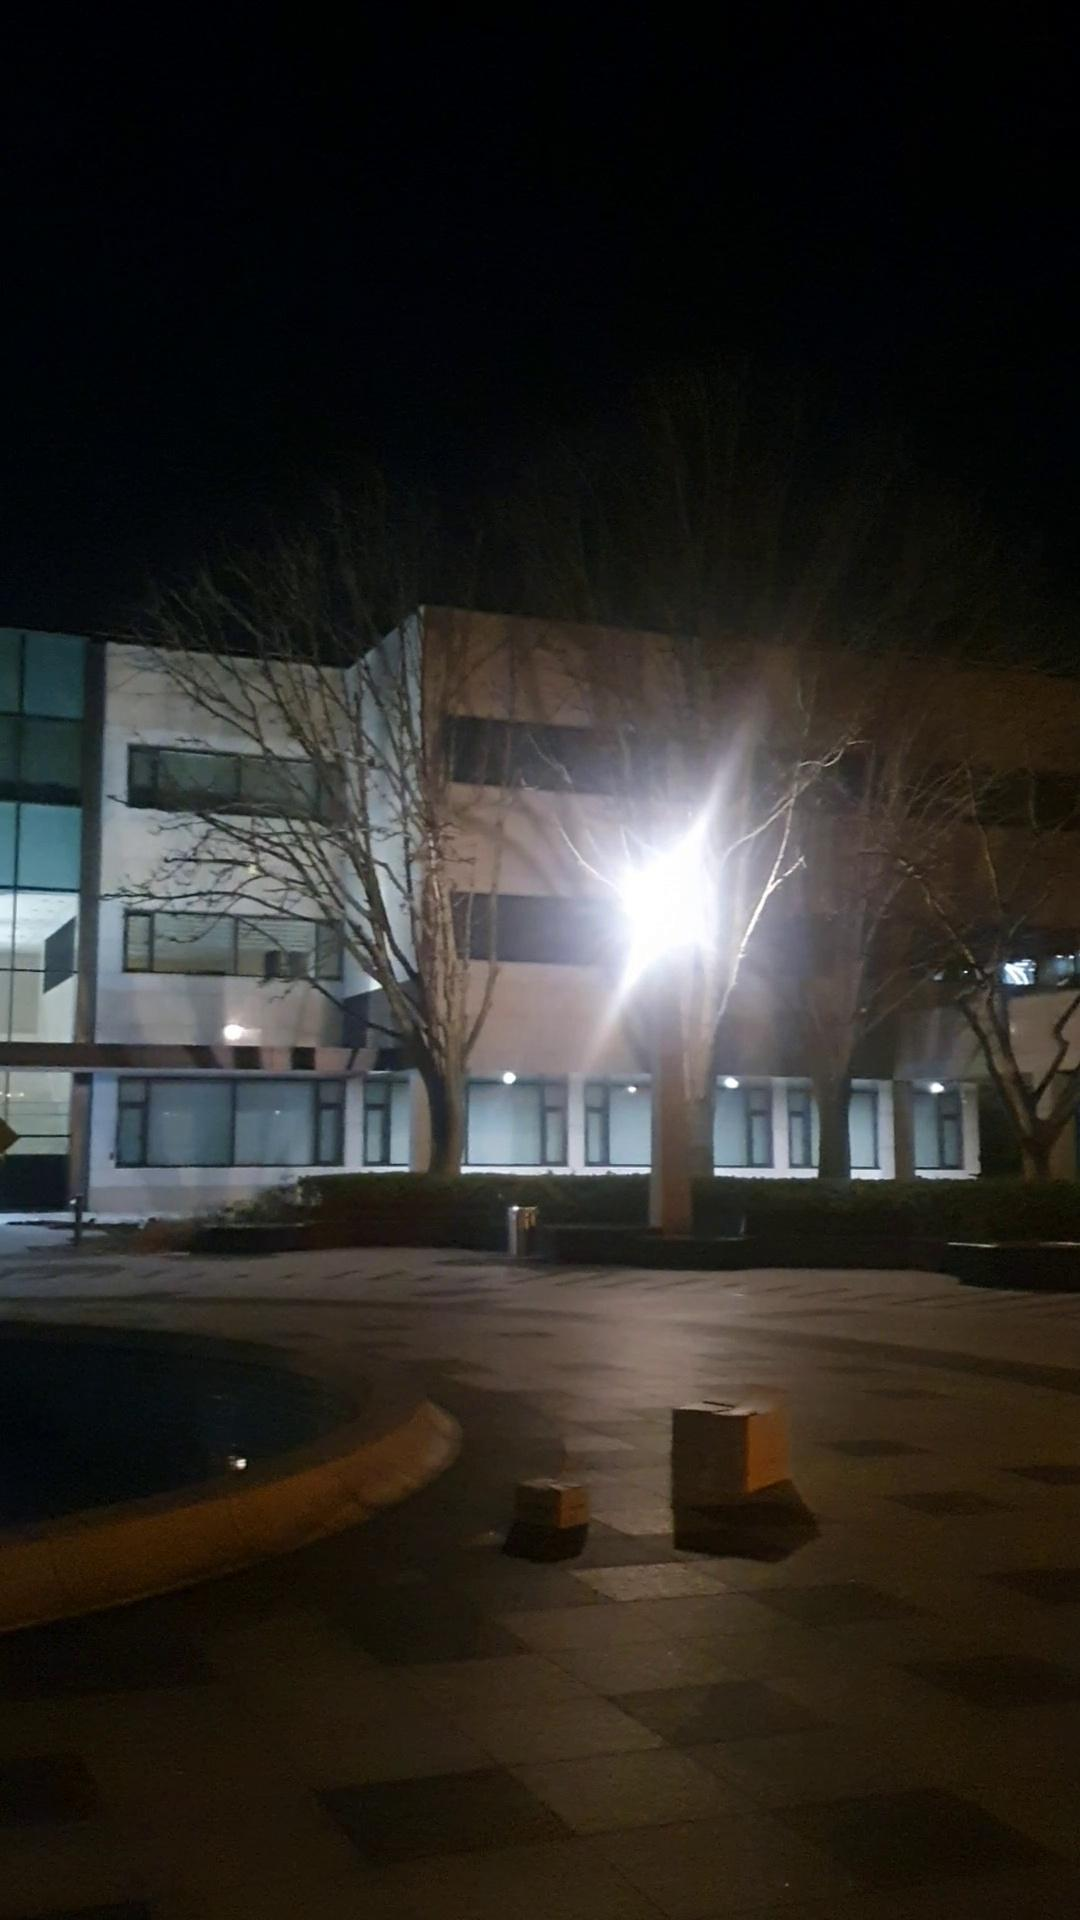Box: (655, 1383, 800, 1540), (501, 1476, 595, 1545)
